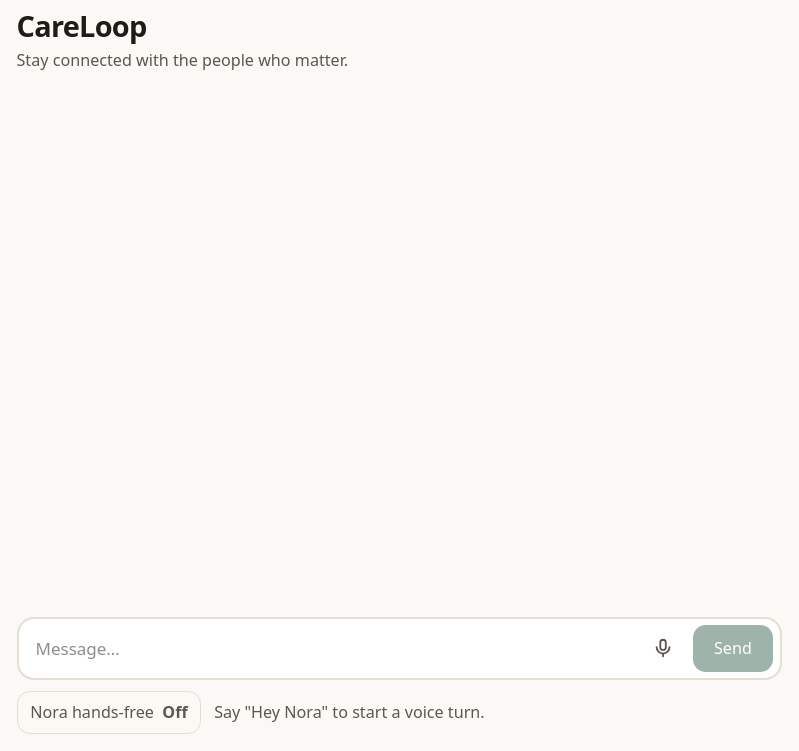
3. push-to-talk survives every Nora state › typing still works when Nora is denied the microphone
Click the switch labelled "Nora hands-free Off" at (109, 712), box x1=16 y1=691 x2=201 y2=734
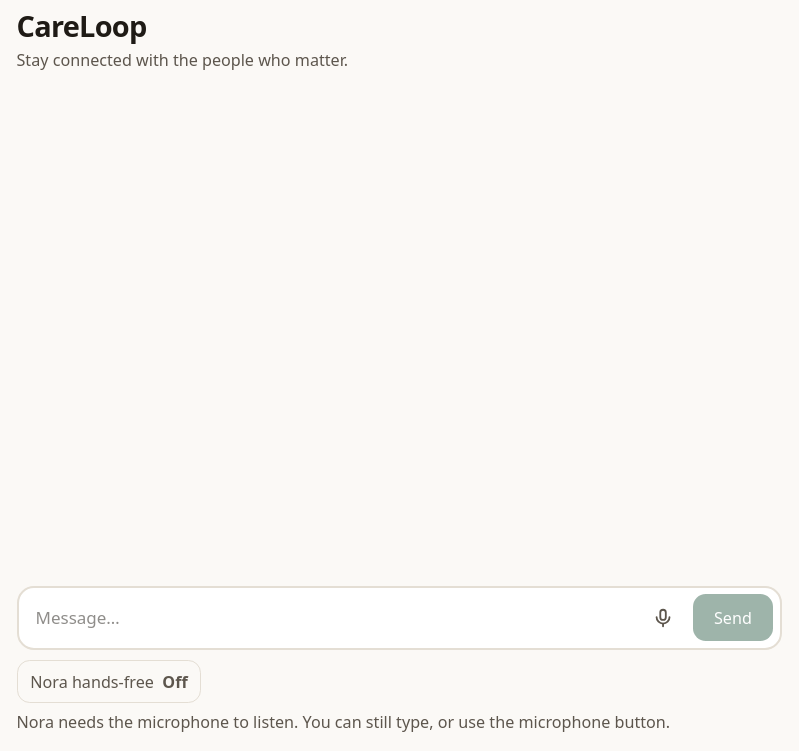
Check: the text "Nora needs the microphone" is shown, box x1=16 y1=711 x2=670 y2=733
Type "hello" into the text box named "write a message" at (329, 618), box x1=25 y1=594 x2=633 y2=641
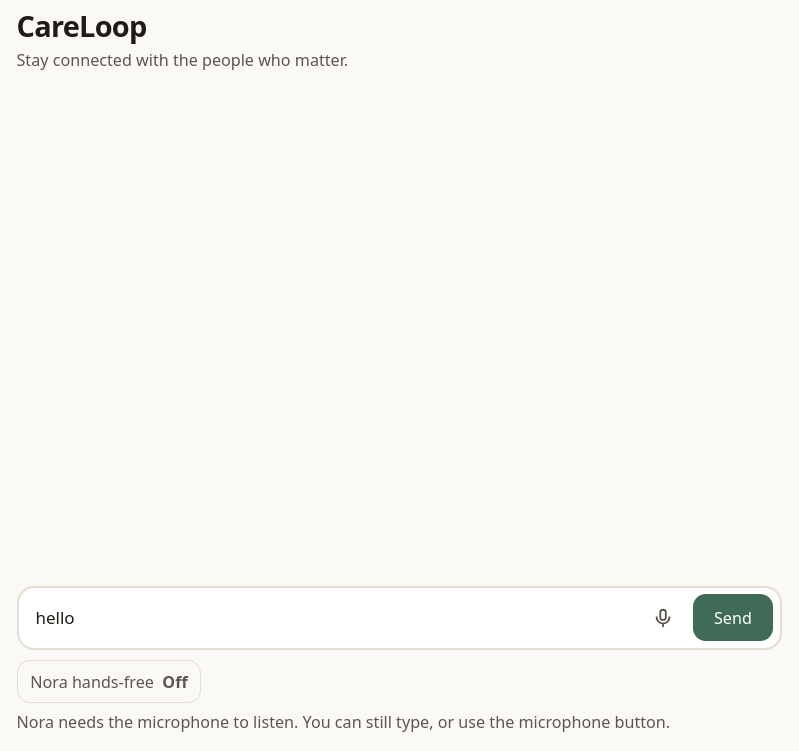
Check: the button "Send" is enabled, box x1=693 y1=594 x2=773 y2=641
